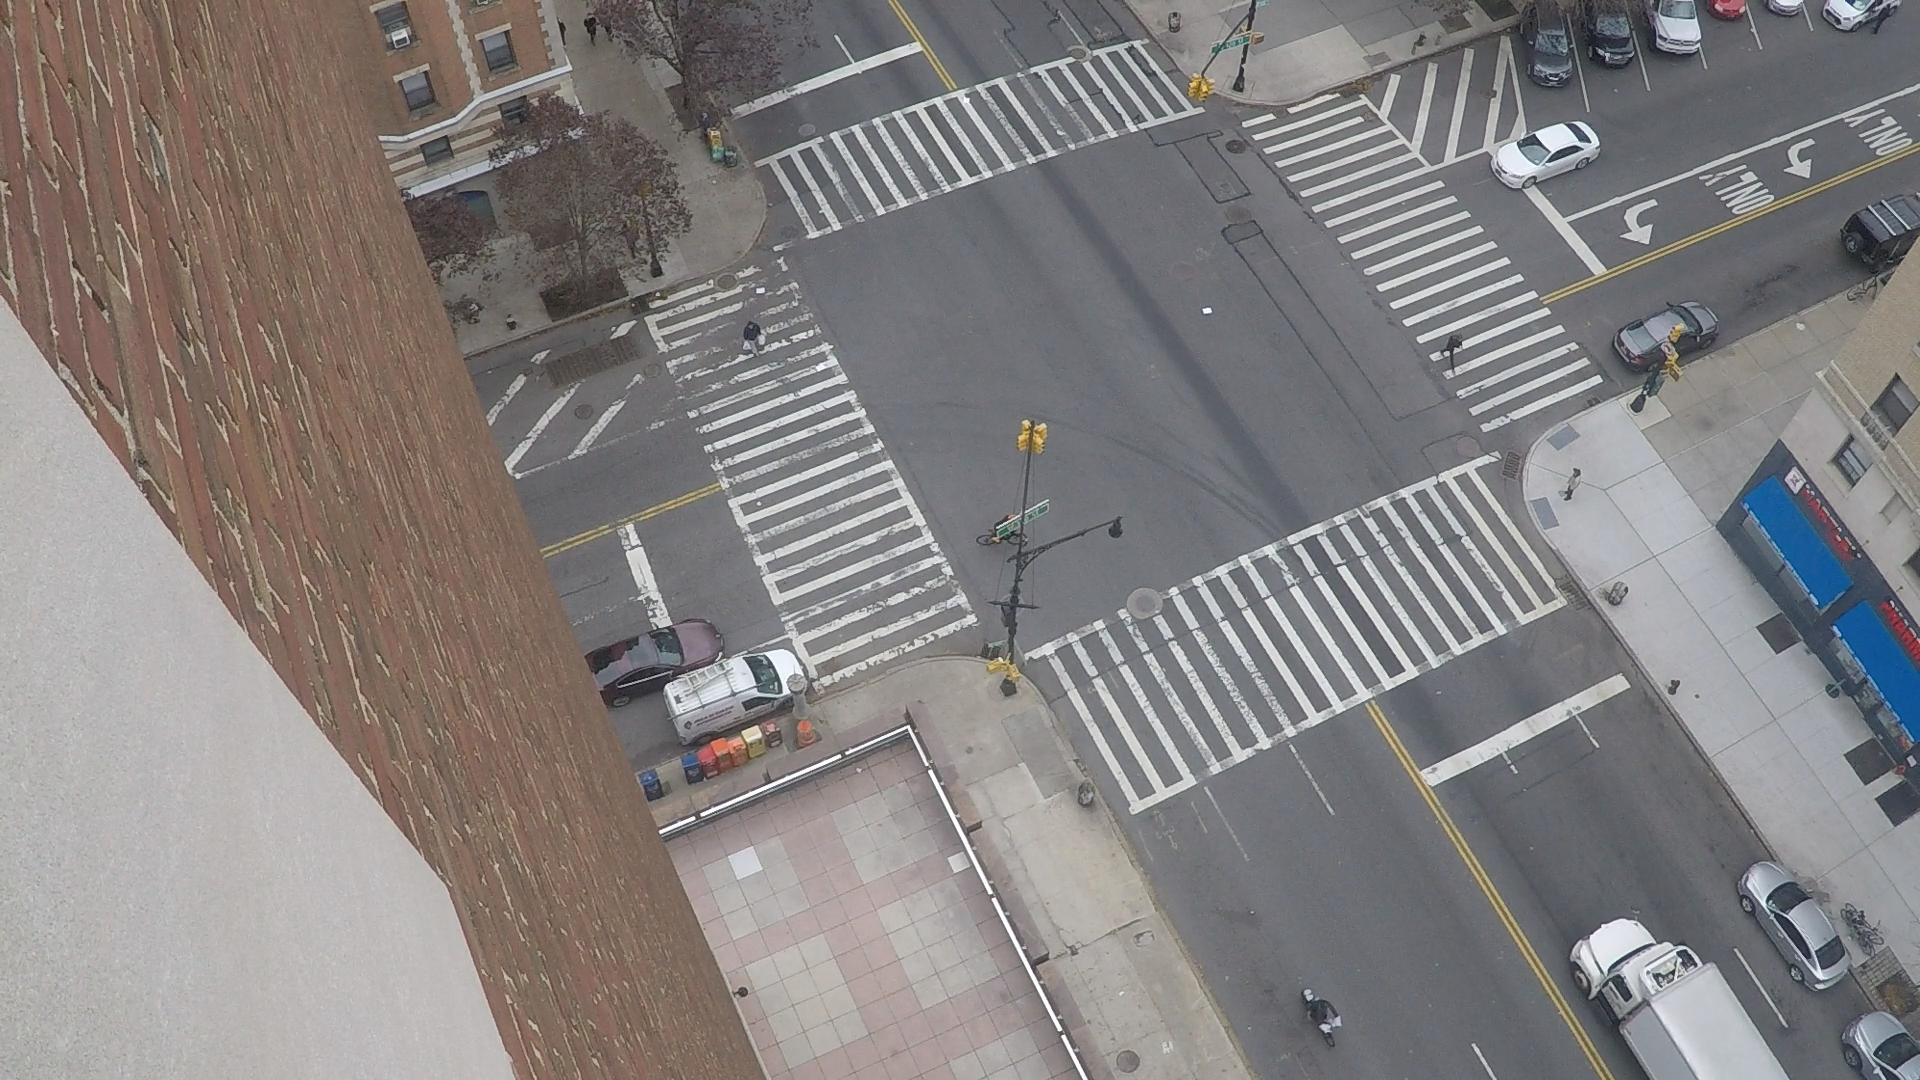Car: (1642, 1, 1652, 38), (1916, 191, 1919, 209), (1526, 48, 1527, 64)
Pedestrian: (749, 319, 753, 323)
